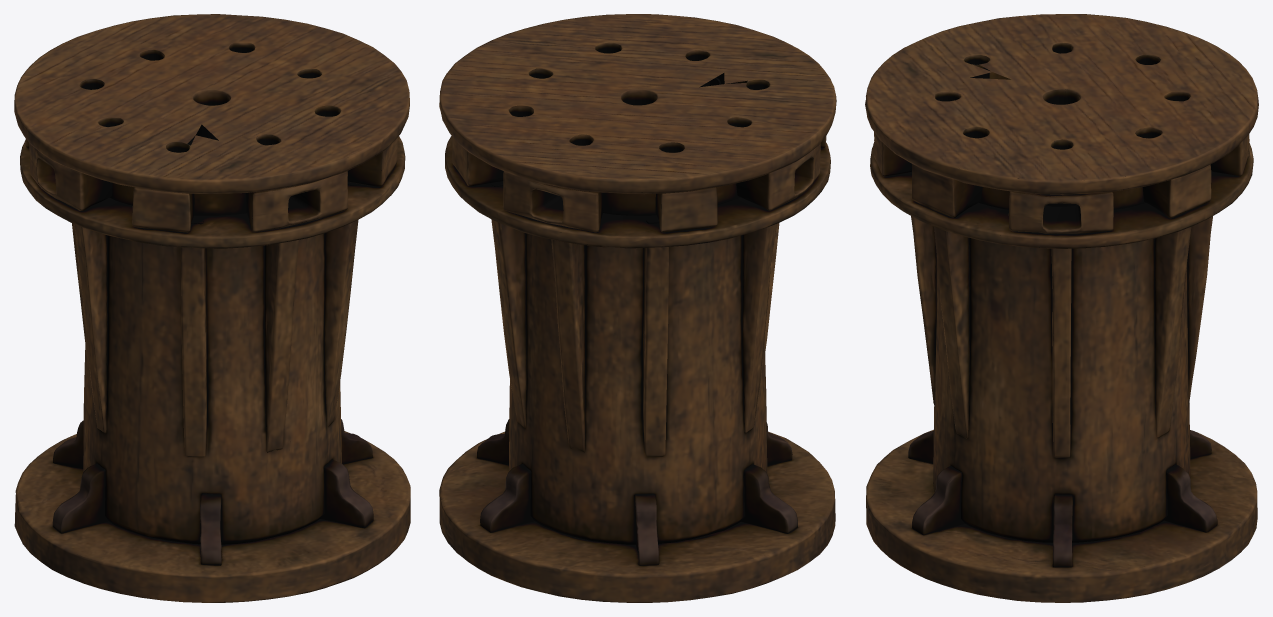
Rendered from capstan.glb.
The picture shows the model from 3 angles, left to right: view 1: azimuth 30°, elevation 25°; view 2: azimuth 150°, elevation 25°; view 3: azimuth 270°, elevation 25°; orthographic projection.
Parts seen in each view (by area): view 1: geometry_0; view 2: geometry_0; view 3: geometry_0.
Boxes of the visible parts, <box> form: geometry_0: <box>14,14,410,602</box>; geometry_0: <box>439,14,836,602</box>; geometry_0: <box>865,14,1258,602</box>.
Bounding box in the file's own units: 0.8574 × 1 × 0.8462.
1 material, 1 textured.
